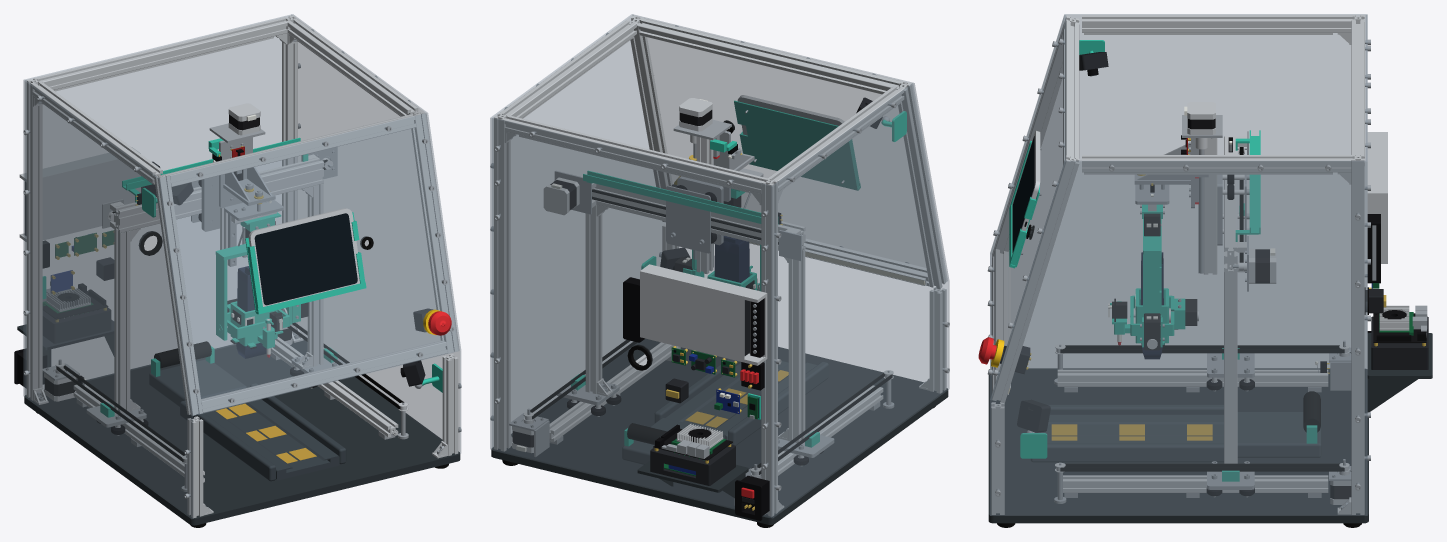
File: butterfly.glb
3 renders of one model, left to right at view 1: azimuth 30°, elevation 25°; view 2: azimuth 150°, elevation 25°; view 3: azimuth 270°, elevation 25°, orthographic. The views are drawn at different scales.
Parts seen in each view (by area): view 1: front_panel_slanted, wall_side, wall_back, wall_side_2, base_plate, ipad_mini__screen, psu_24V_350W__case, frame_post_back, arm_rest_pad, frame_top_rail_back, front_panel_rail, front_panel_cross_rail_2 (+35 smaller); view 2: wall_back, wall_side, wall_side_2, front_panel_slanted, base_plate, psu_24V_350W__case, printed_ipad_slot, frame_post_back_2, frame_post_back, front_panel_cross_rail_2, frame_top_rail_back, front_panel_rail (+40 smaller); view 3: wall_side_2, wall_side, base_plate, front_panel_slanted, frame_post_back_2, frame_top_rail_side, frame_top_rail_side_2, arm_rest_pad, y_rail_2020, y_rail_2020_2, front_panel_rail_2, arm_rest_bolster_2 (+40 smaller).
Part boxes in pixels (box(x1,y1,x2,y2)): front_panel_slanted: box(159, 113, 459, 415); wall_side: box(23, 79, 192, 518); wall_back: box(25, 14, 291, 395); wall_side_2: box(292, 14, 460, 453); base_plate: box(24, 340, 460, 525); ipad_mini__screen: box(254, 213, 357, 305); psu_24V_350W__case: box(19, 147, 140, 241); frame_post_back: box(26, 77, 42, 400); arm_rest_pad: box(204, 399, 339, 480); frame_top_rail_back: box(37, 18, 287, 89); front_panel_rail: box(154, 174, 202, 415); front_panel_cross_rail_2: box(165, 114, 416, 186); wall_back: box(492, 118, 771, 517); wall_side: box(771, 83, 949, 517); wall_side_2: box(490, 14, 665, 449); front_panel_slanted: box(633, 14, 947, 281); base_plate: box(491, 338, 948, 524); psu_24V_350W__case: box(640, 264, 767, 365); printed_ipad_slot: box(734, 100, 860, 190); frame_post_back_2: box(494, 113, 510, 451); frame_post_back: box(761, 178, 777, 516); front_panel_cross_rail_2: box(638, 18, 900, 94); frame_top_rail_back: box(504, 115, 766, 193); front_panel_rail: box(896, 81, 945, 289); wall_side_2: box(990, 161, 1367, 515); wall_side: box(990, 14, 1367, 368); base_plate: box(988, 368, 1368, 523); front_panel_slanted: box(990, 15, 1065, 399); frame_post_back_2: box(1351, 154, 1364, 514); frame_top_rail_side: box(1082, 15, 1351, 32); frame_top_rail_side_2: box(1082, 155, 1351, 172); arm_rest_pad: box(1036, 414, 1223, 442); y_rail_2020: box(1057, 369, 1328, 386); y_rail_2020_2: box(1063, 475, 1328, 492); front_panel_rail_2: box(992, 155, 1079, 403); arm_rest_bolster_2: box(1030, 443, 1223, 462).
Bounding box in the file's own units: 526 × 604 × 671.
